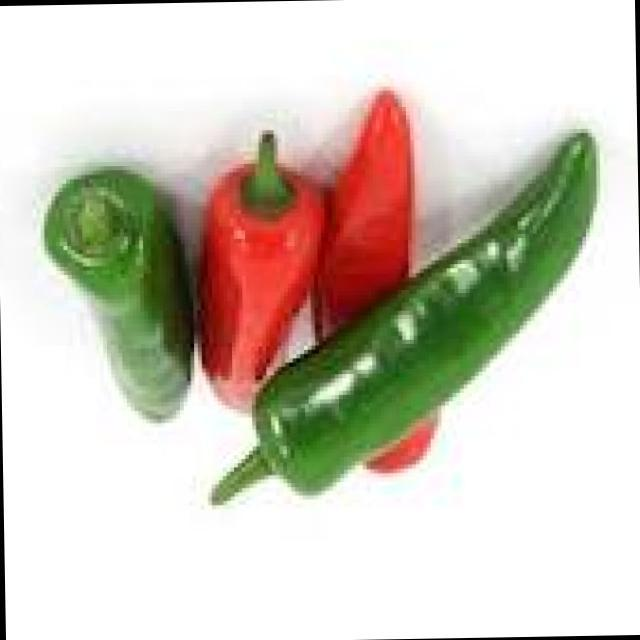Chili: (200, 111, 610, 534)
